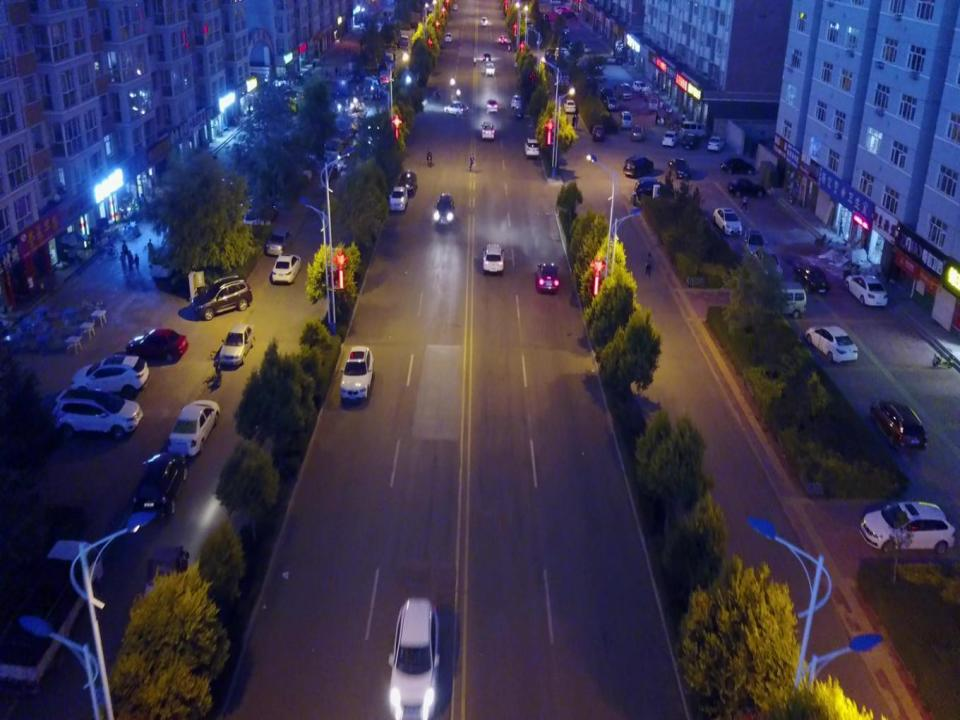car: (390, 594, 442, 720), (859, 500, 958, 555), (52, 388, 145, 437), (870, 396, 930, 456), (68, 353, 149, 394), (136, 453, 188, 514), (165, 399, 218, 457), (187, 273, 252, 316), (805, 323, 859, 366), (125, 325, 189, 360), (337, 344, 373, 404), (219, 323, 255, 365), (843, 272, 886, 307), (752, 248, 785, 279), (795, 262, 829, 292), (712, 205, 741, 236), (272, 252, 300, 284), (634, 176, 668, 200), (728, 176, 764, 198), (720, 155, 757, 176), (741, 228, 767, 255), (435, 190, 455, 225), (264, 227, 287, 256), (483, 242, 503, 275), (624, 154, 654, 176), (535, 263, 559, 288), (667, 156, 692, 180), (397, 169, 418, 197), (390, 183, 407, 211), (599, 87, 619, 109), (445, 99, 468, 115), (522, 137, 538, 157), (662, 129, 678, 148), (708, 134, 726, 150), (591, 123, 605, 143), (631, 77, 647, 93), (621, 109, 633, 130), (482, 121, 494, 140), (631, 124, 645, 140), (485, 97, 498, 113), (619, 82, 632, 98), (648, 94, 659, 112), (563, 99, 576, 114), (510, 93, 522, 109), (485, 60, 495, 76), (481, 52, 492, 63), (444, 30, 452, 42), (480, 15, 488, 25), (499, 33, 507, 43), (452, 3, 459, 11)
van: (766, 286, 808, 316)
